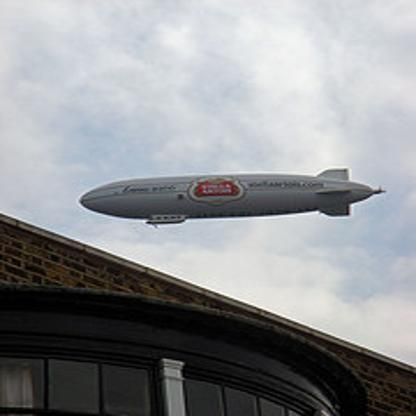Airship: (74, 167, 389, 229)
